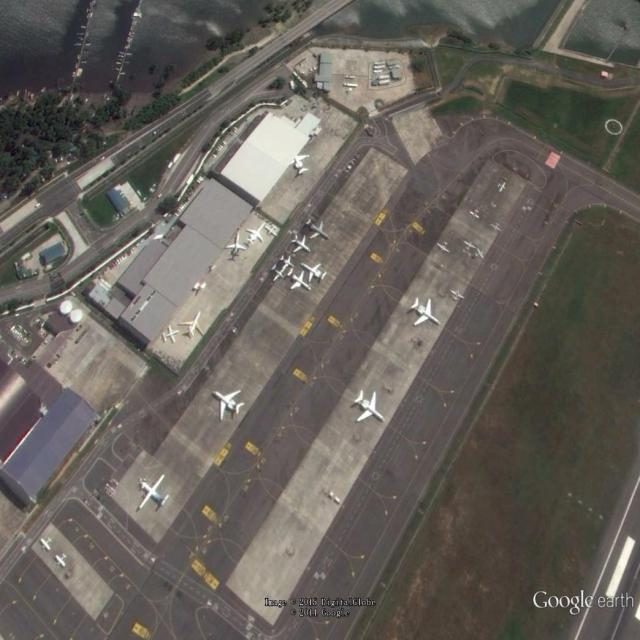aircraft: (137, 473, 173, 513), (352, 389, 389, 427), (211, 389, 246, 424), (177, 310, 206, 343), (411, 297, 441, 328), (286, 268, 316, 294), (299, 262, 330, 287), (304, 217, 333, 242), (289, 154, 312, 179), (246, 223, 268, 249), (225, 232, 249, 255), (290, 233, 314, 255), (161, 324, 182, 347), (268, 263, 288, 284), (275, 254, 297, 272), (435, 240, 452, 259), (39, 536, 56, 554), (264, 225, 281, 240), (449, 289, 466, 303), (474, 246, 488, 263), (56, 554, 69, 571), (463, 238, 477, 253), (488, 222, 503, 236), (468, 208, 484, 221), (496, 182, 510, 194)
